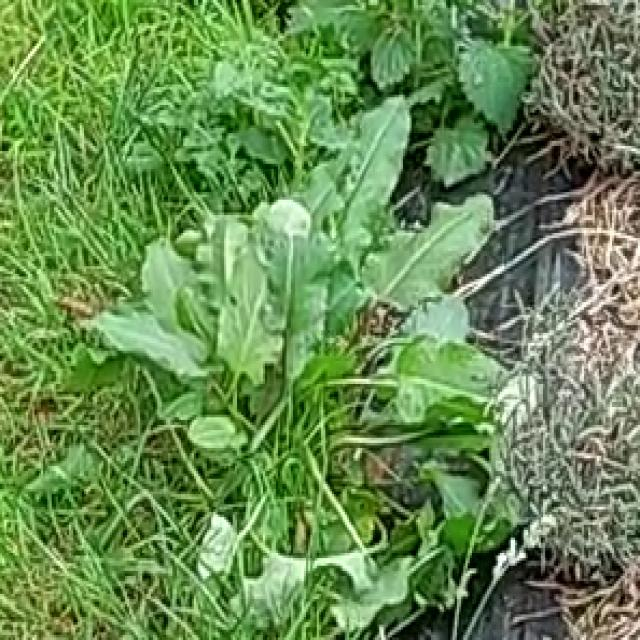organic waste: (86, 151, 513, 609)
